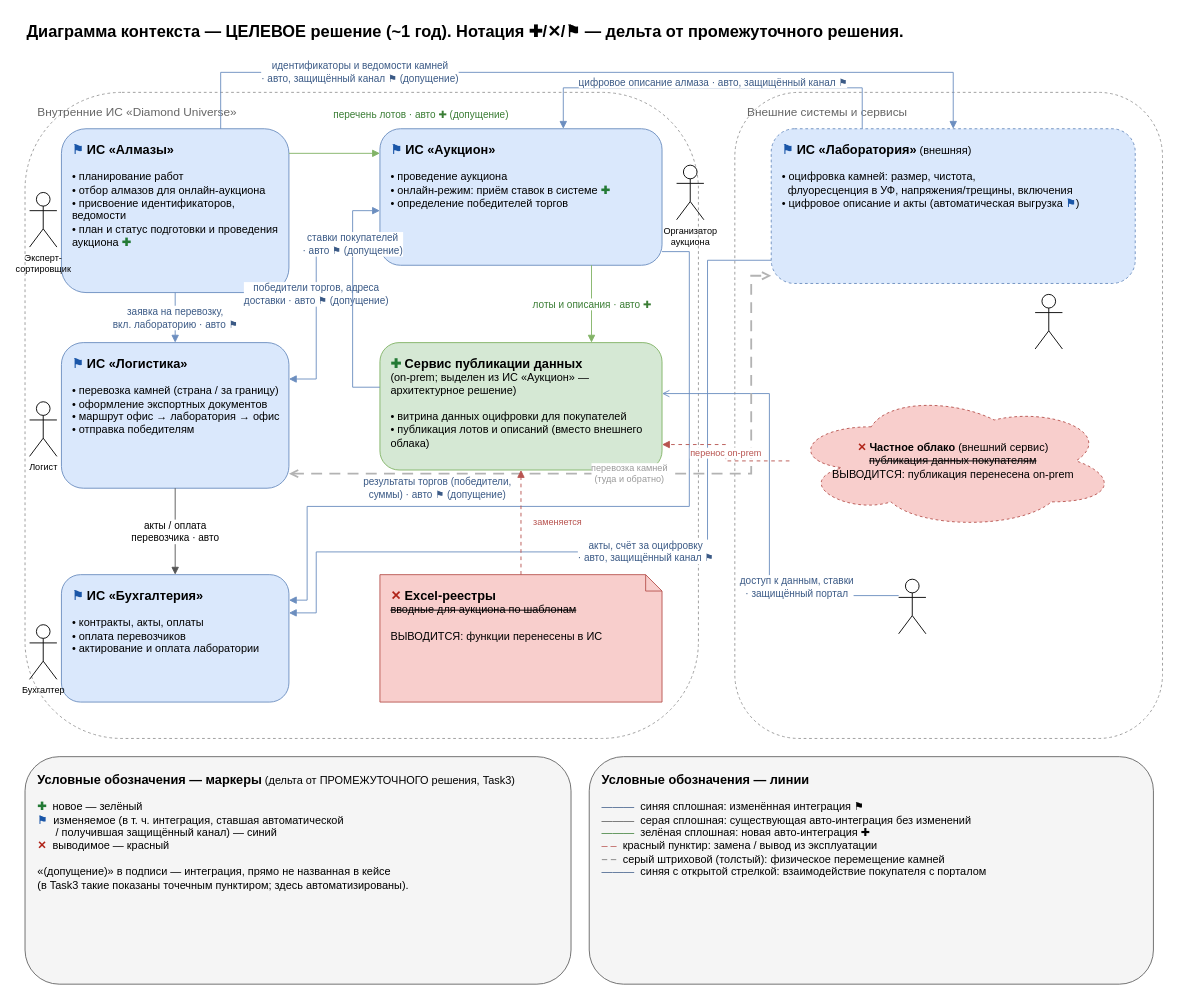
This 1178x1000 diagram has some shape labels left out. The shapes that lost their labels are listed below. From the top down, each one's centre as x and y in pixels, then its label:
At (x=1048, y=321): "Оператор лаборатории".
At (x=912, y=606): "Покупатель (Индия/Китай/Бельгия)".
